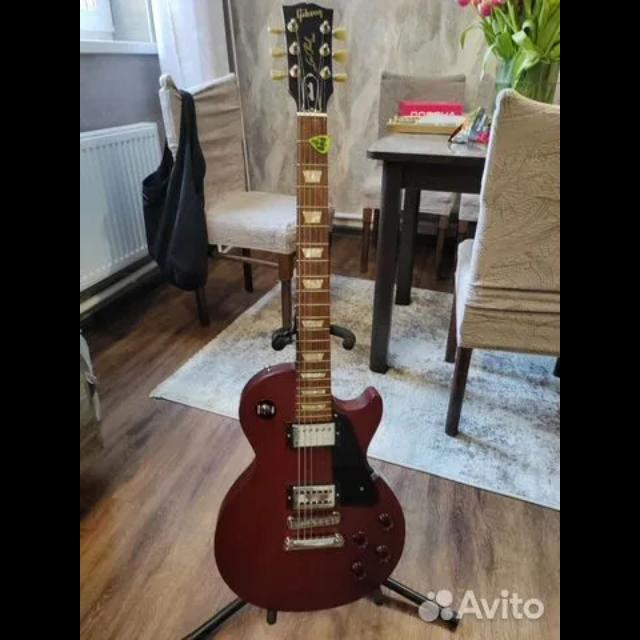Electric-Guitar: (214, 3, 406, 611)
